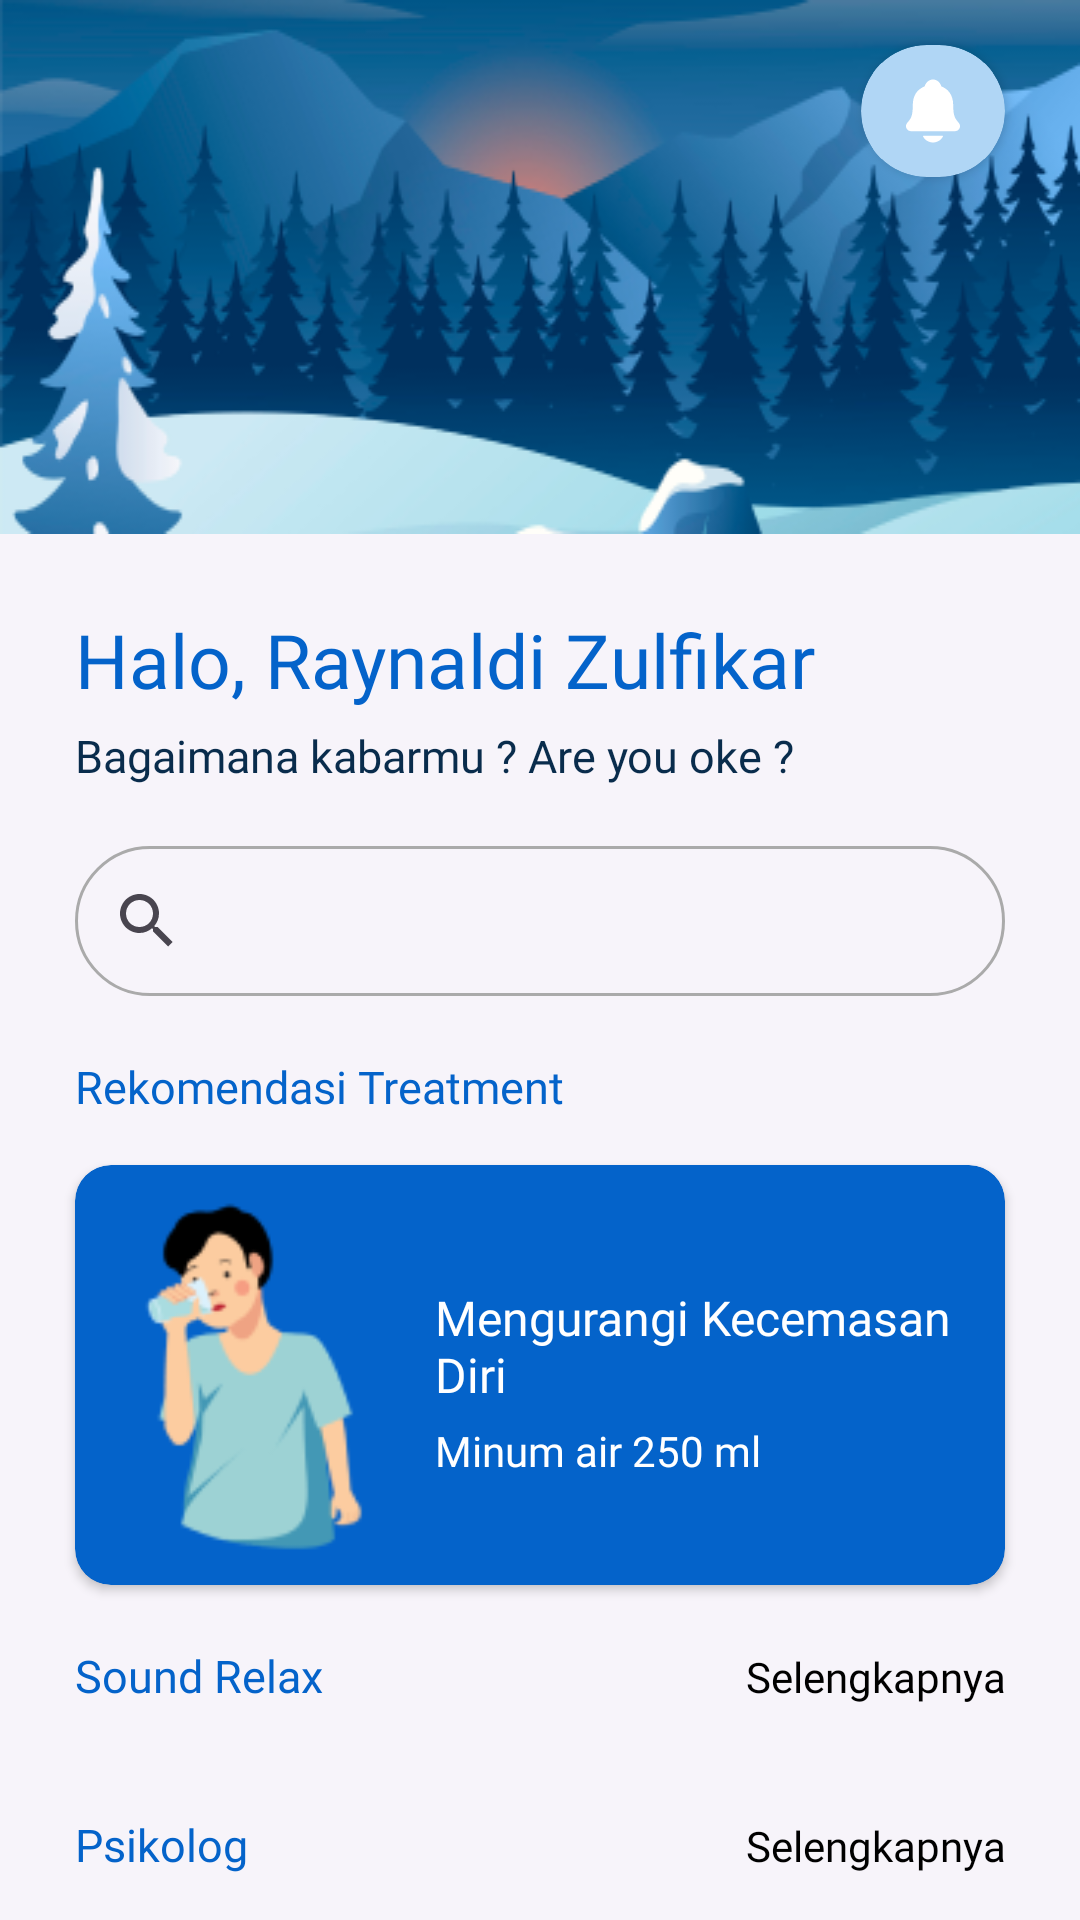

Screen size 1080x1920. Icon name, then its center in pixels as (x,y):
notifications: (933,111)
